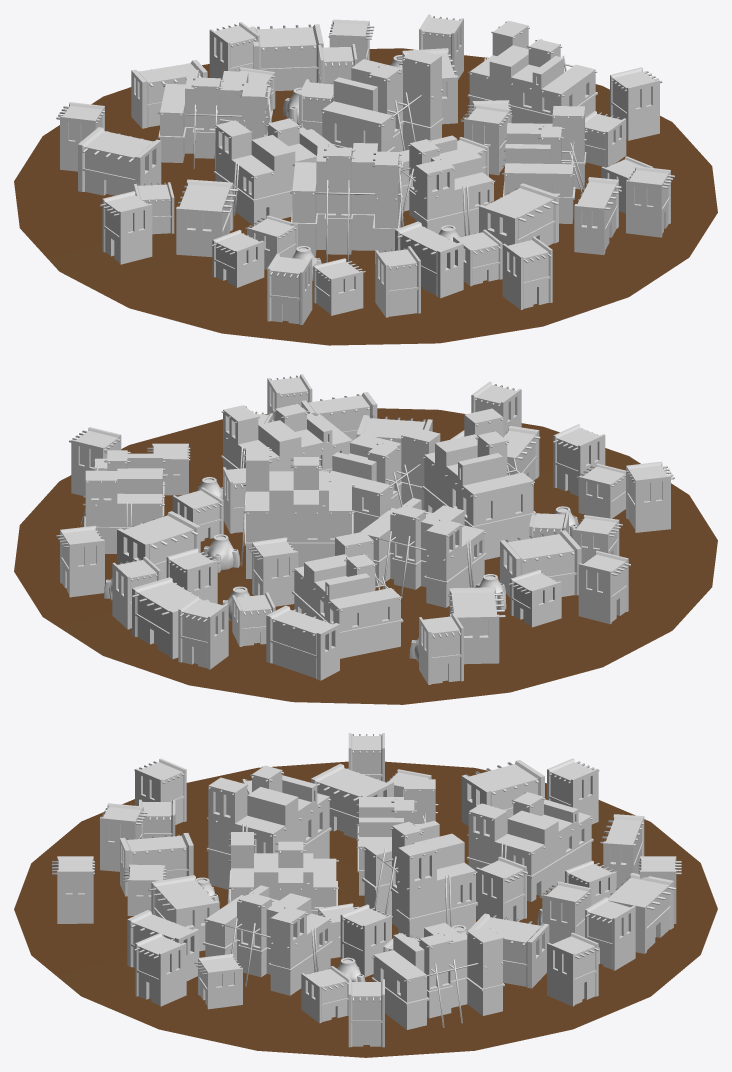
Rendered from City.fbx.
3 views of the same model, one above another, from view 1: azimuth 30°, elevation 25°; view 2: azimuth 150°, elevation 25°; view 3: azimuth 270°, elevation 25° (orthographic).
Visible parts, largest first — view 1: Adobe:pCube13; view 2: Adobe:pCube13; view 3: Adobe:pCube13.
Boxes of the visible parts, x1=… form: Adobe:pCube13: x1=14, y1=14, x2=717, y2=345; Adobe:pCube13: x1=14, y1=374, x2=717, y2=704; Adobe:pCube13: x1=14, y1=733, x2=717, y2=1057.
Size of the model in its own units: 2098 by 358 by 2098.
